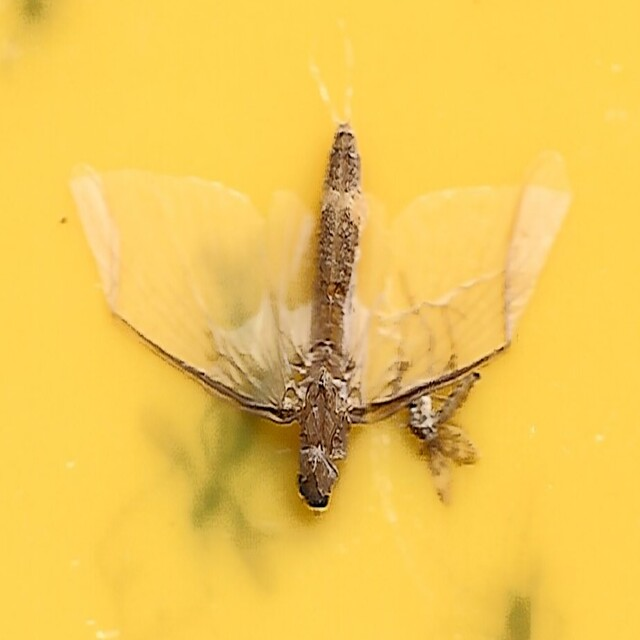Ephemeroptera: (69, 120, 571, 520)
Nematocera: (406, 362, 483, 504)
